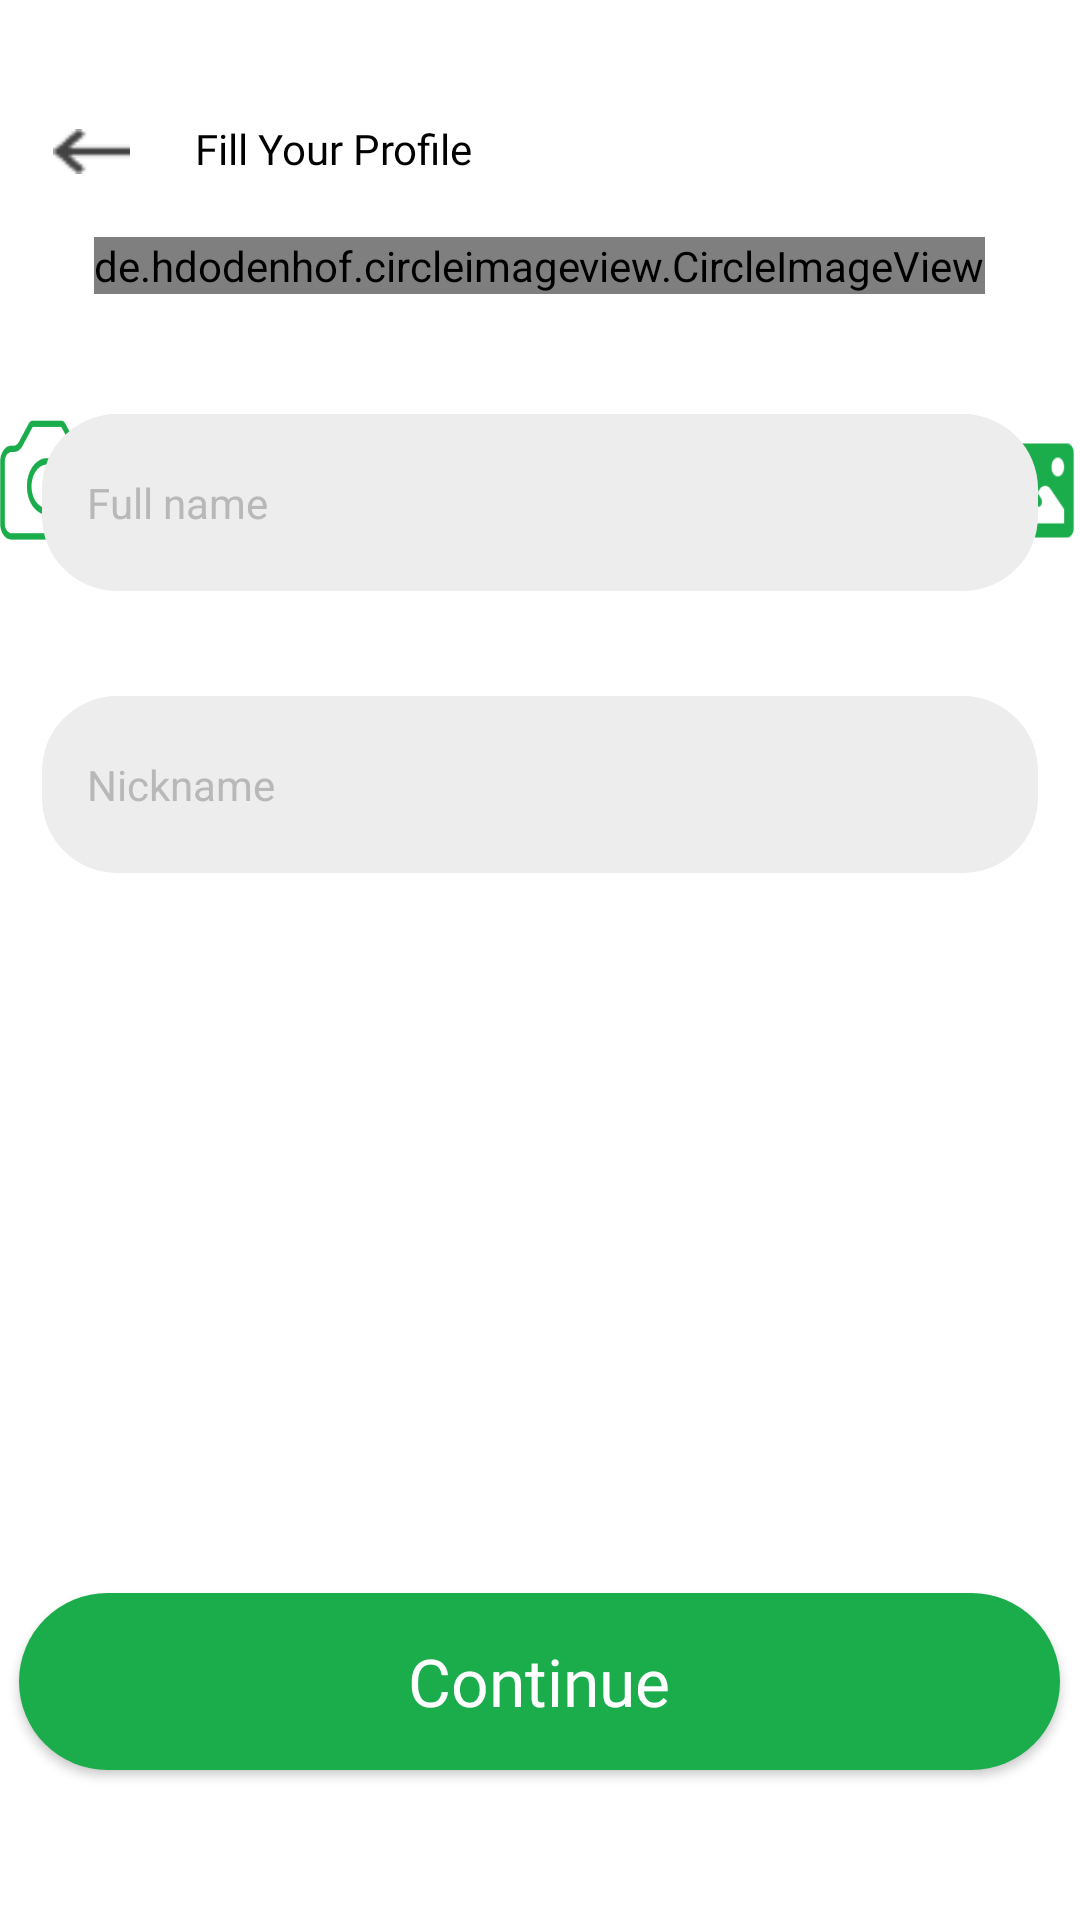

Locate icon controls on the screen. Image size 1080w x 1920h, boxes as (x1, y1, x2, y2).
arrow: (53, 129, 130, 174)
